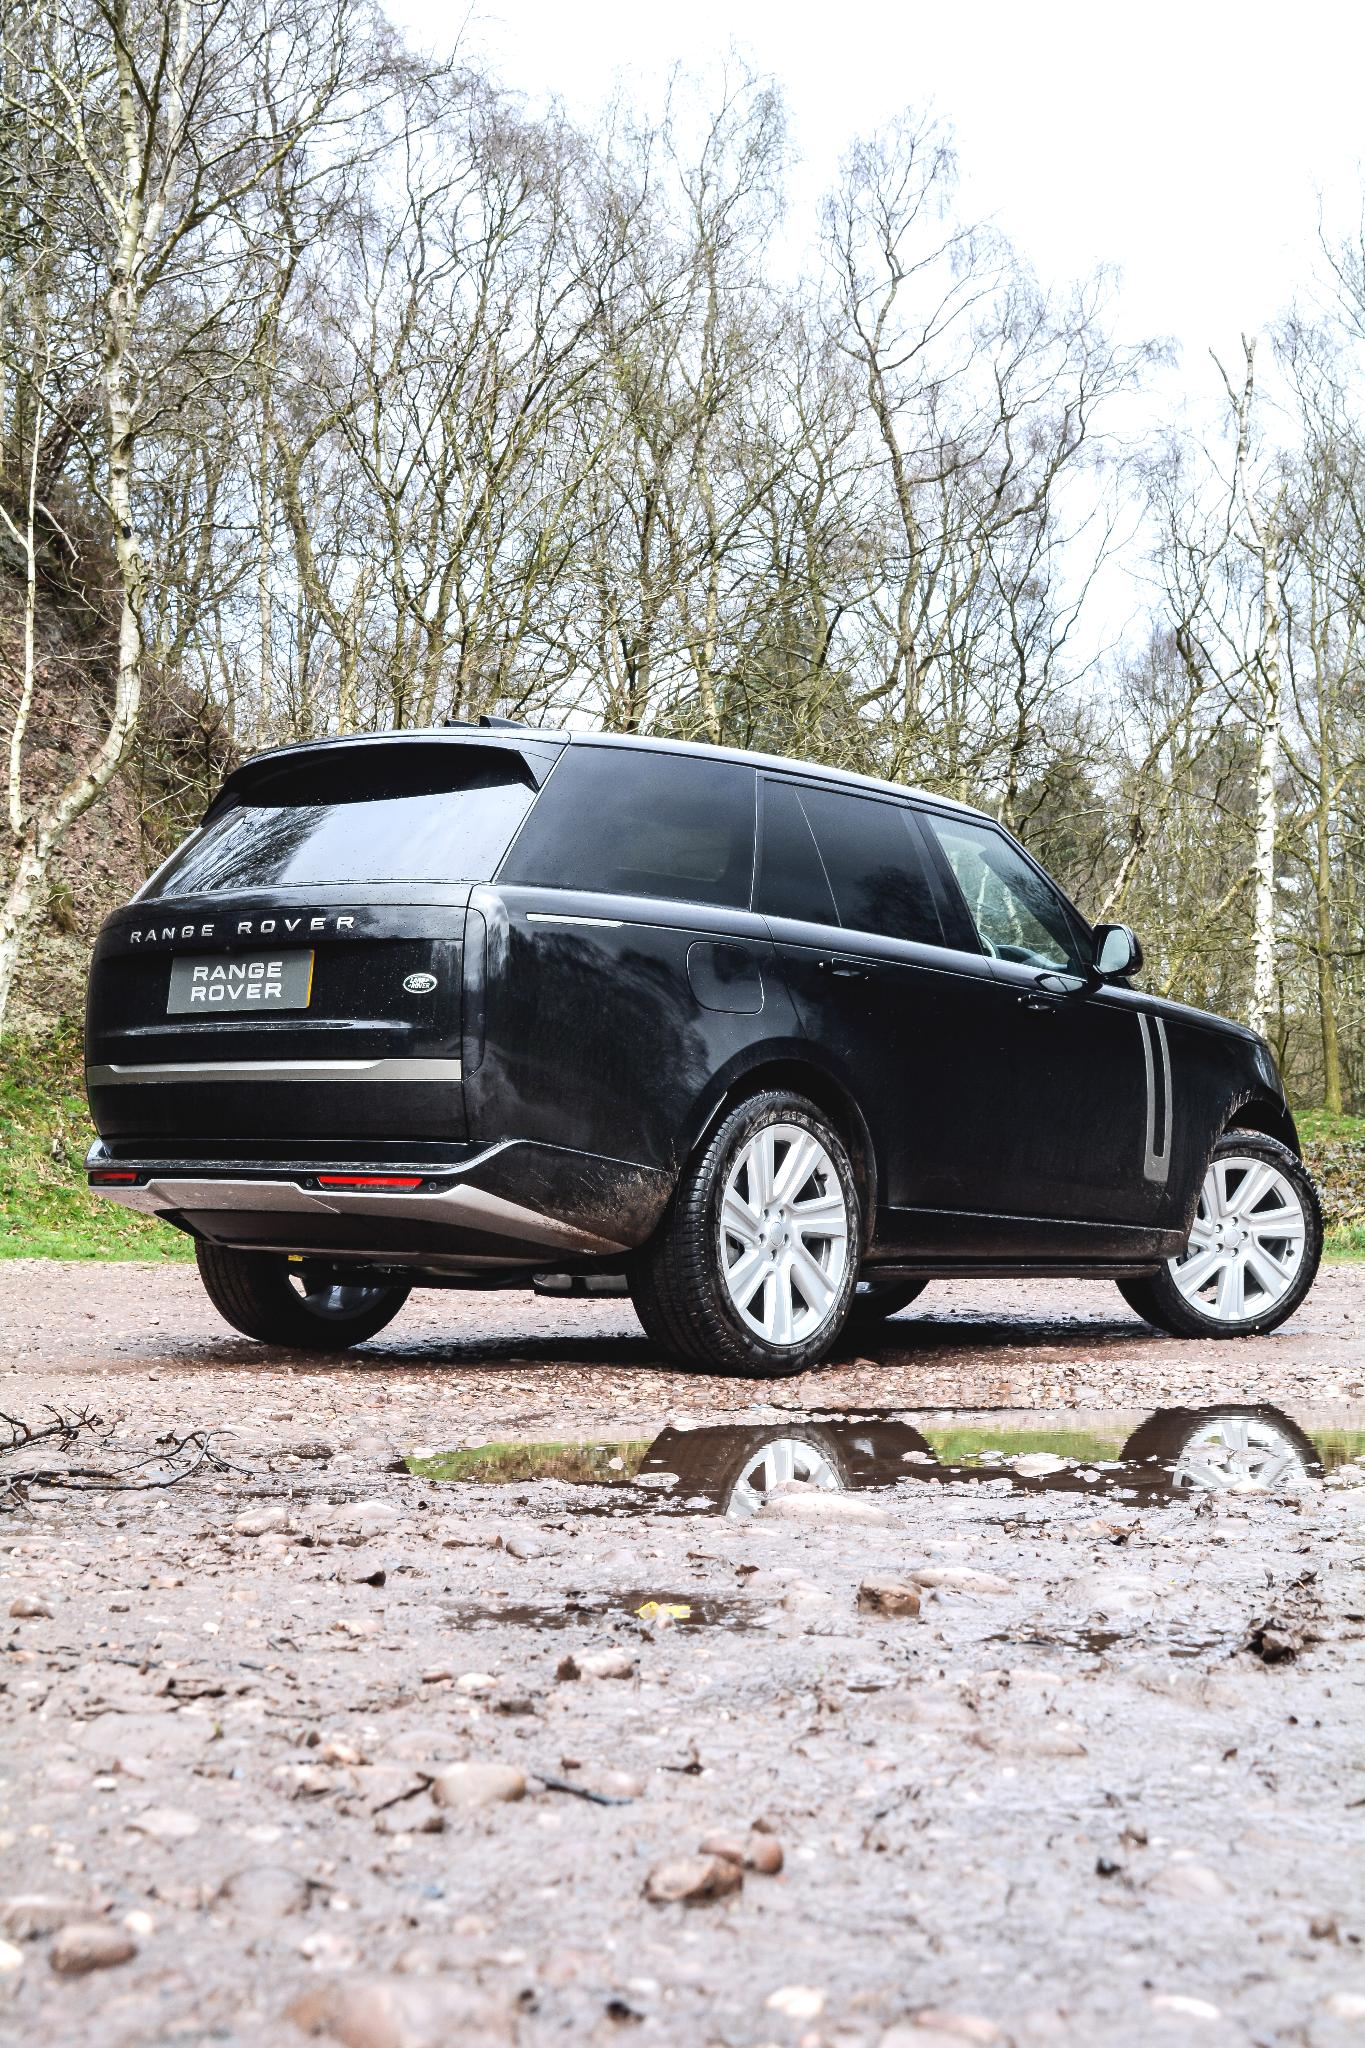range rover: (118, 906, 374, 958)
